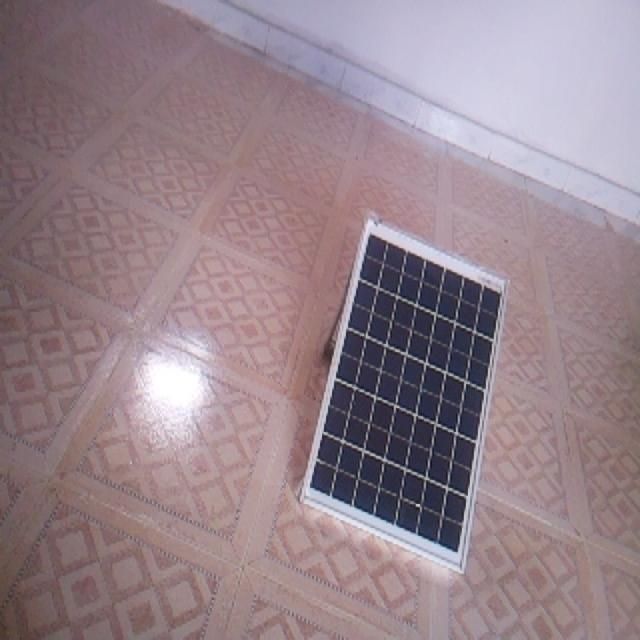Normal Solar Panel: (302, 217, 508, 573)
